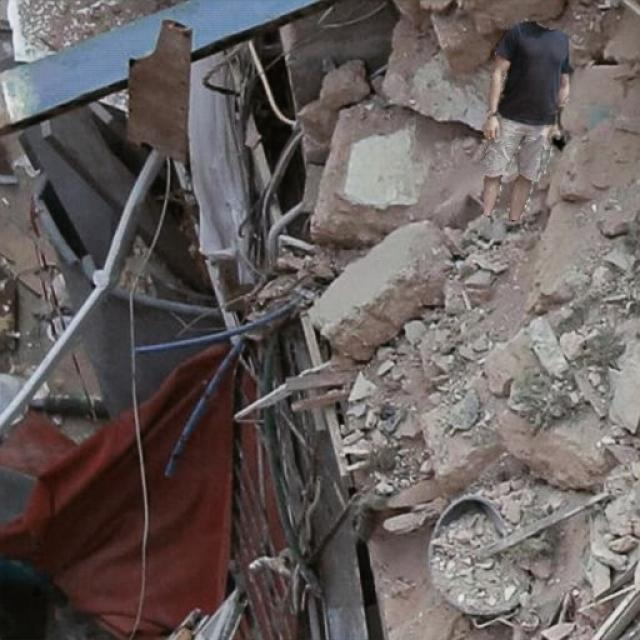Person in Rubble: (483, 21, 568, 220)
